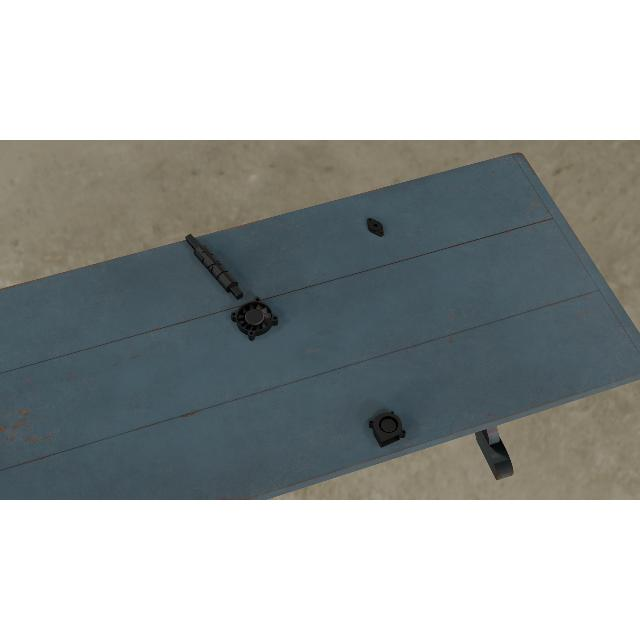Pieza1: (182, 230, 246, 304)
Pieza2: (363, 214, 389, 240)
Pieza3: (367, 408, 407, 448)
Pieza4: (230, 296, 280, 342)
